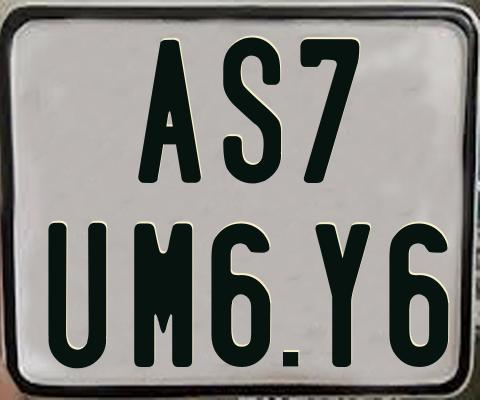6: (386, 222, 450, 369), (211, 221, 274, 367)
7: (299, 37, 361, 182)
A: (136, 40, 205, 187)
M: (131, 220, 194, 369)
S: (220, 34, 281, 187)
U: (46, 220, 104, 369)
Y: (314, 224, 375, 371)
